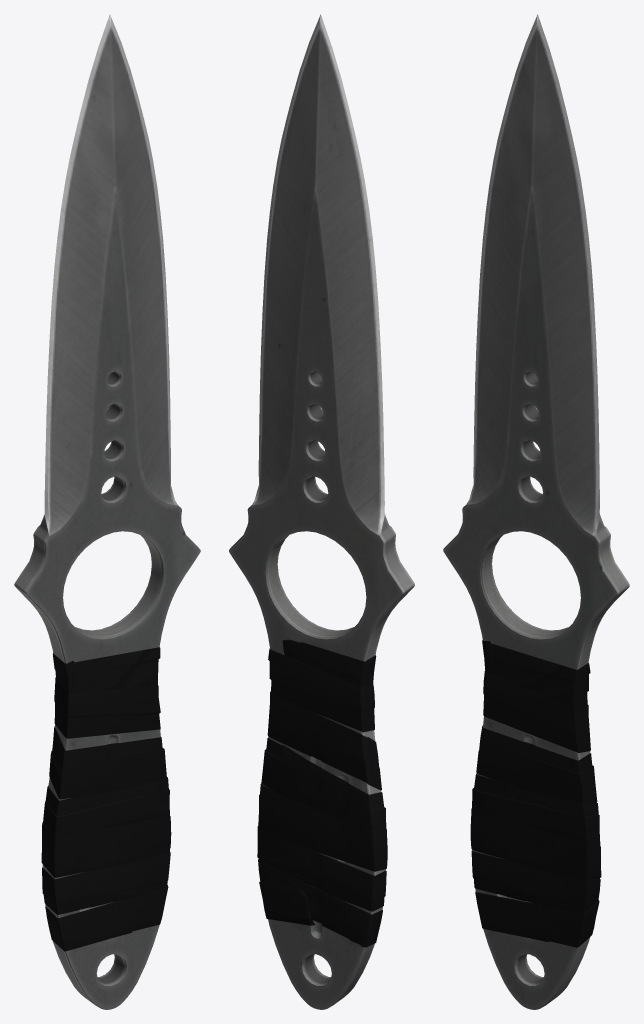
Rendered from weapon_knife_skeleton.glb.
3 views of the same model, side by side, from view 1: azimuth 30°, elevation 25°; view 2: azimuth 150°, elevation 25°; view 3: azimuth 330°, elevation 25° (orthographic).
Parts seen in each view (by area): view 1: weapons/models/knife/knife_skeleton/weapon_knife_skeleton.v; view 2: weapons/models/knife/knife_skeleton/weapon_knife_skeleton.v; view 3: weapons/models/knife/knife_skeleton/weapon_knife_skeleton.v.
Part boxes in pixels (x1,y1,x2,y2): weapons/models/knife/knife_skeleton/weapon_knife_skeleton.v: (14,14,200,1009); weapons/models/knife/knife_skeleton/weapon_knife_skeleton.v: (229,14,414,1009); weapons/models/knife/knife_skeleton/weapon_knife_skeleton.v: (443,14,629,1009).
Bounding box in the file's own units: 2.36 × 12.75 × 0.3541.
Materials: 1 (1 with a texture image).
